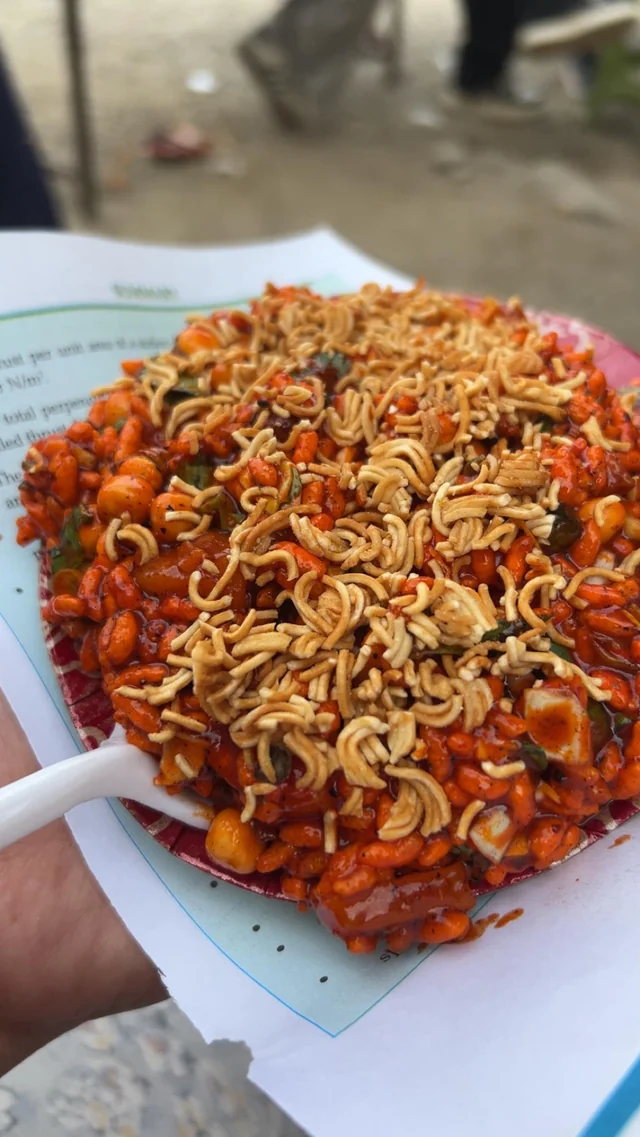chatpate: (15, 295, 628, 910)
